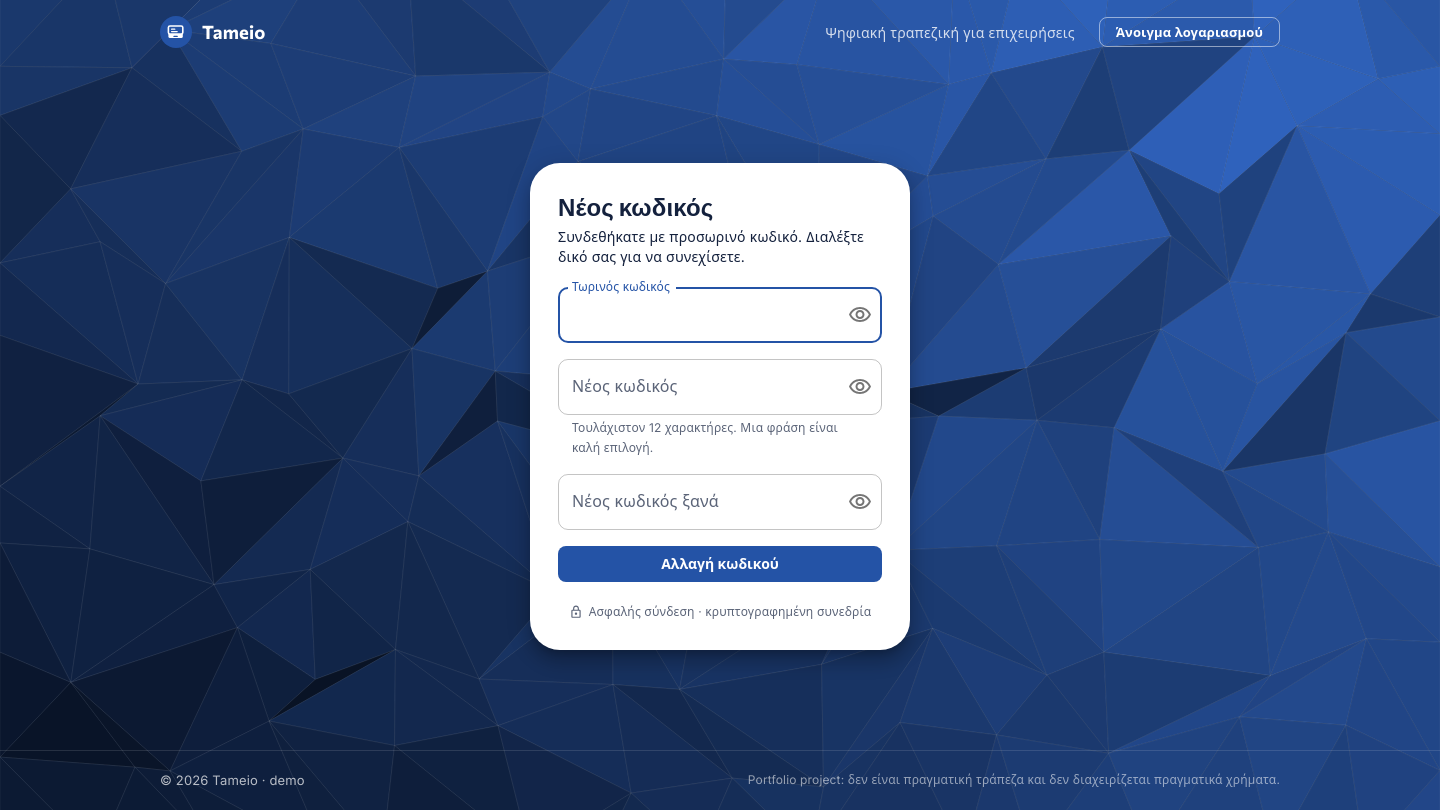
Test: ChangePasswordPage › sends the change and says when the current password is wrong
Type "wrong one" into the password field labelled "Τωρινός κωδικός" at (695, 315), box [558,287,832,343]
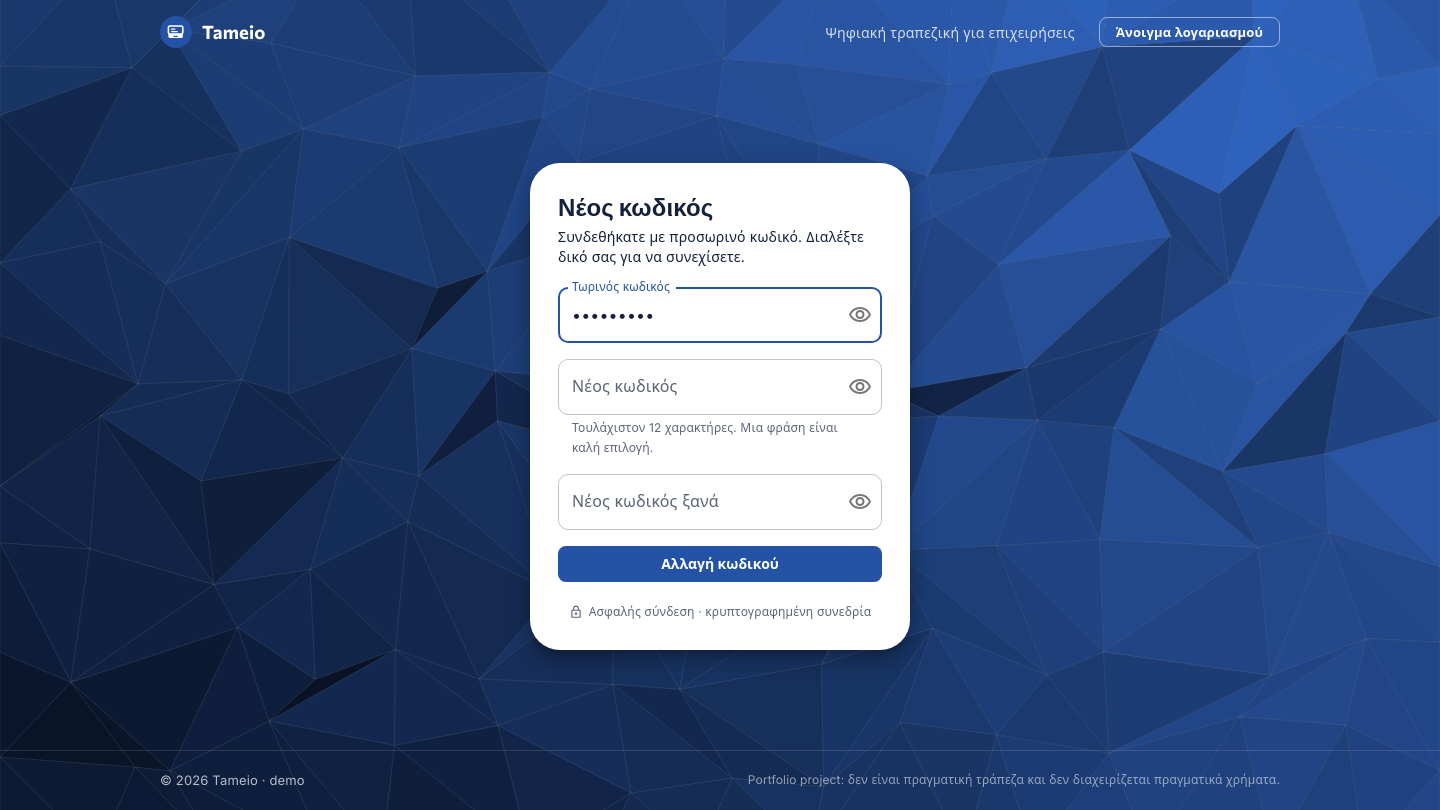
Type "a long new password" into the password field labelled "Νέος κωδικός" at (695, 387), box [558,359,832,415]
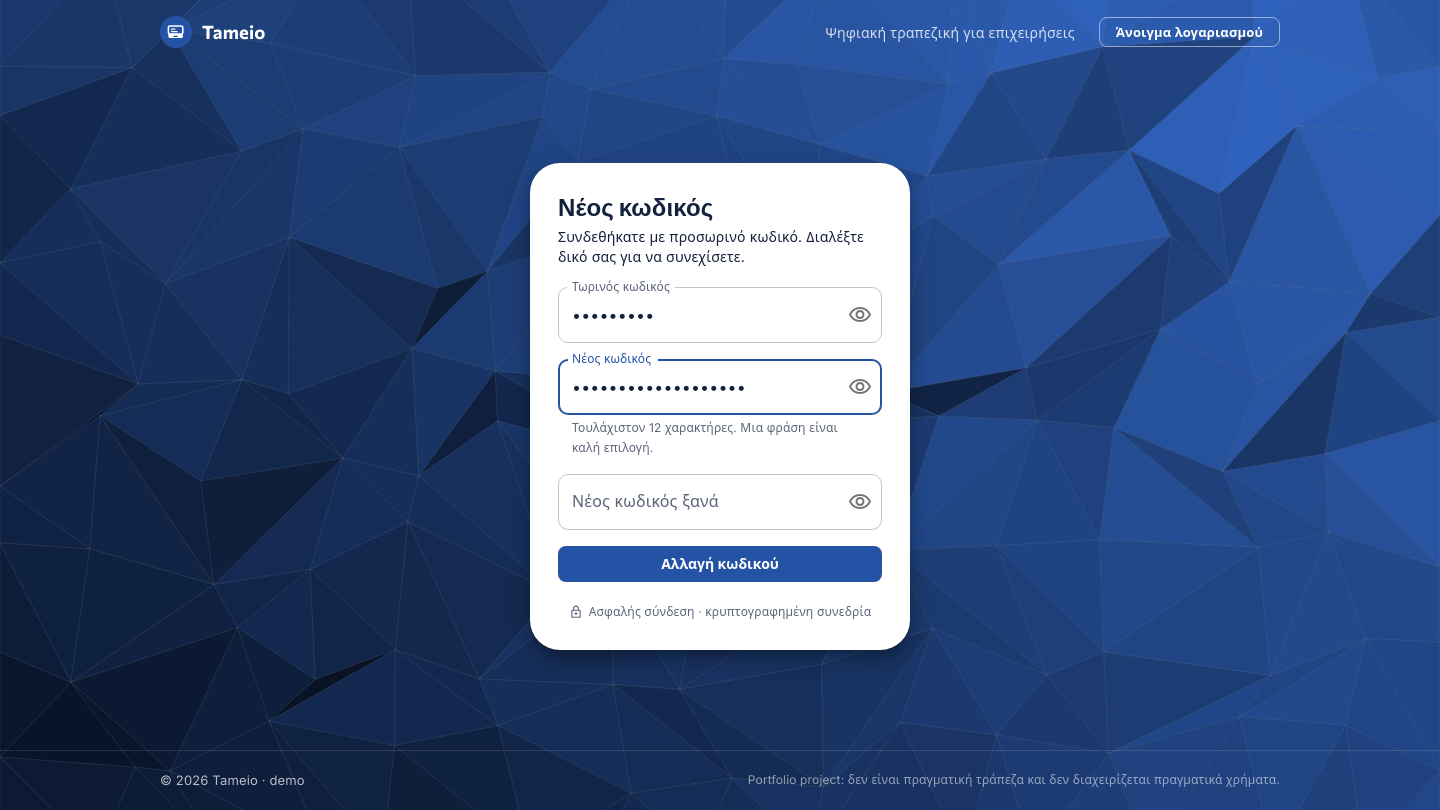
Type "a long new password" into the password field labelled "Νέος κωδικός ξανά" at (695, 502), box [558,474,832,530]
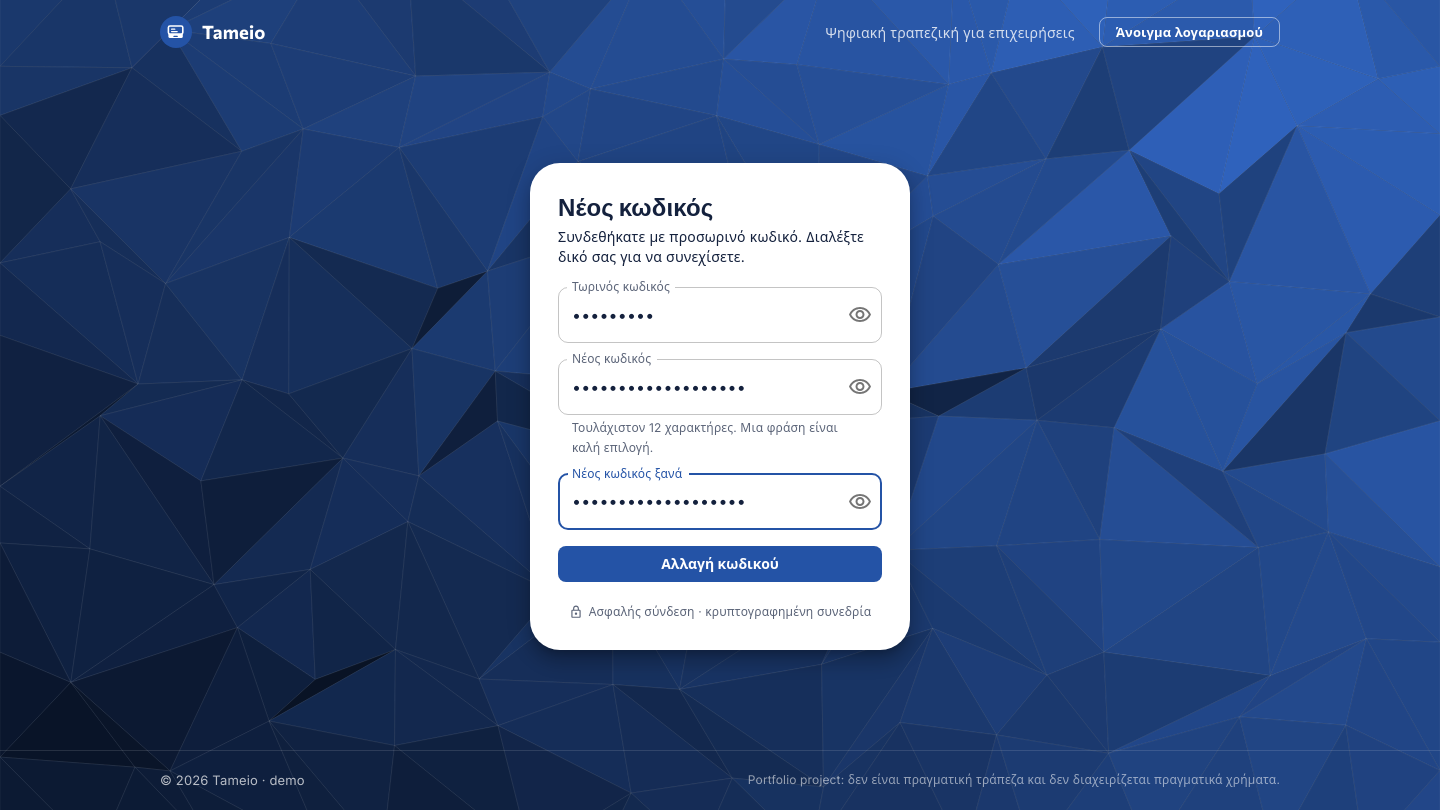
Click the button "Αλλαγή κωδικού" at (720, 564), box [558,546,882,582]
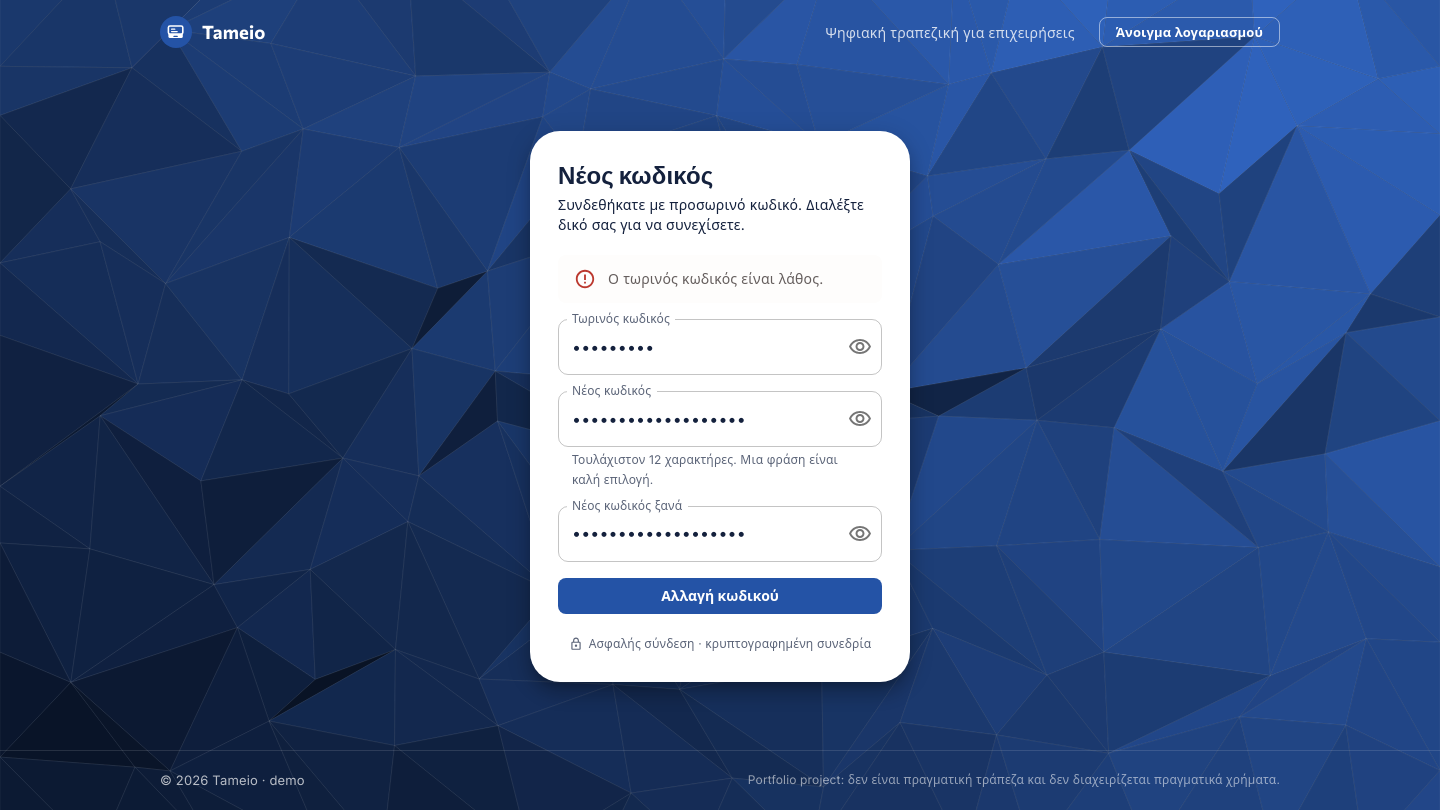
Check: the text "Ο τωρινός κωδικός είναι λάθος." is shown, box [608,270,823,287]
